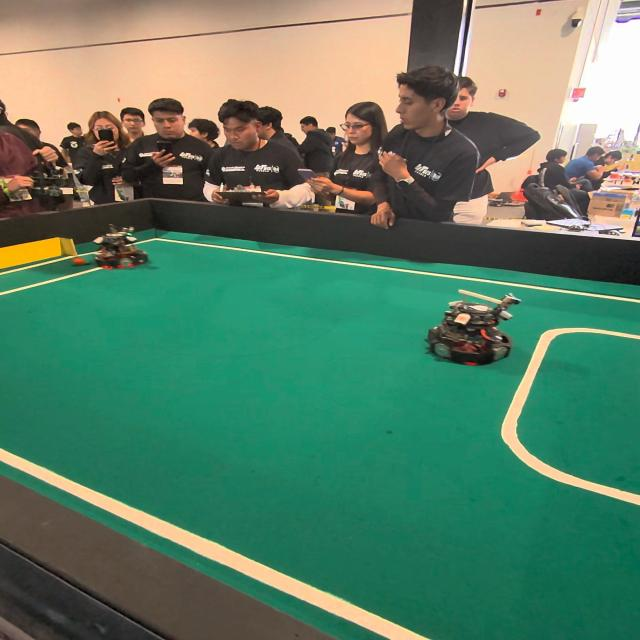Robot: (417, 275, 521, 371), (93, 215, 152, 272)
pelota: (72, 252, 86, 265)
